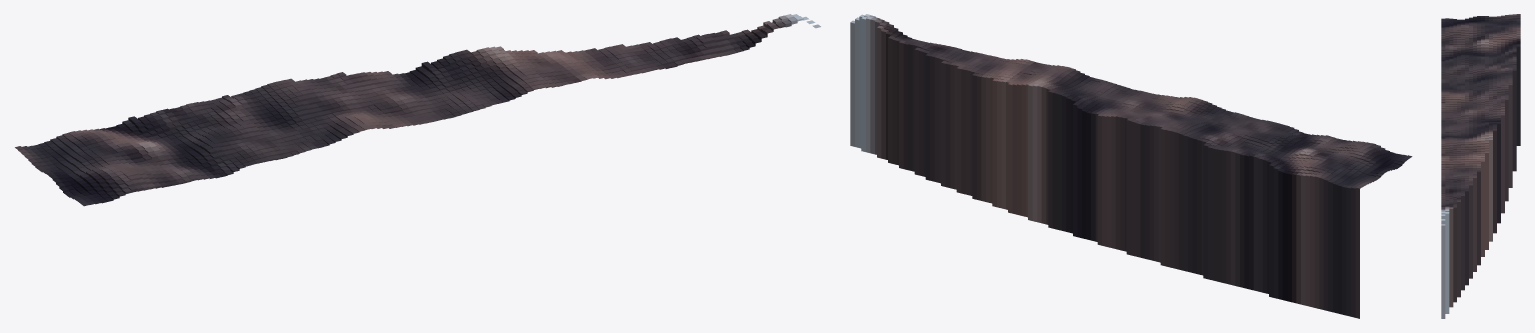
File: chunk-01.glb
3 views of the same model, side by side, from view 1: azimuth 30°, elevation 25°; view 2: azimuth 150°, elevation 25°; view 3: azimuth 270°, elevation 25° (orthographic). The views are drawn at different scales.
Parts seen in each view (by area): view 1: Mesh_0.017; view 2: Mesh_0.017; view 3: Mesh_0.017.
Part boxes in pixels (bbox=[...]): Mesh_0.017: bbox=[15, 14, 820, 206]; Mesh_0.017: bbox=[850, 14, 1412, 318]; Mesh_0.017: bbox=[1441, 14, 1520, 318].
Bounding box in the file's own units: 30750 × 7170 × 5000.
